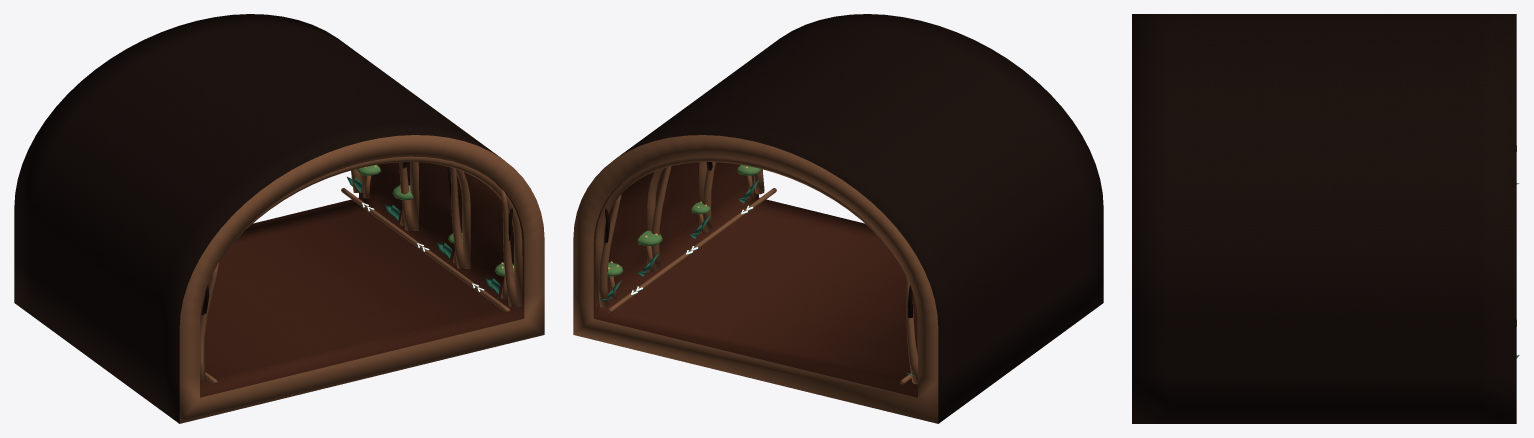
Rendered from straight_12m.glb.
The picture shows the model from 3 angles, left to right: view 1: azimuth 30°, elevation 25°; view 2: azimuth 150°, elevation 25°; view 3: azimuth 270°, elevation 25°; orthographic projection. The views are drawn at different scales.
Parts seen in each view (by area): view 1: TunnelGeometry; view 2: TunnelGeometry; view 3: TunnelGeometry.
Boxes of the visible parts, left/top/right/bottom form: TunnelGeometry: left=14, top=14, right=544, bottom=423; TunnelGeometry: left=573, top=14, right=1103, bottom=423; TunnelGeometry: left=1132, top=14, right=1519, bottom=423.
Bounding box in the file's own units: 15.3 × 9.52 × 12.1.
Materials: 7 (2 with a texture image).
